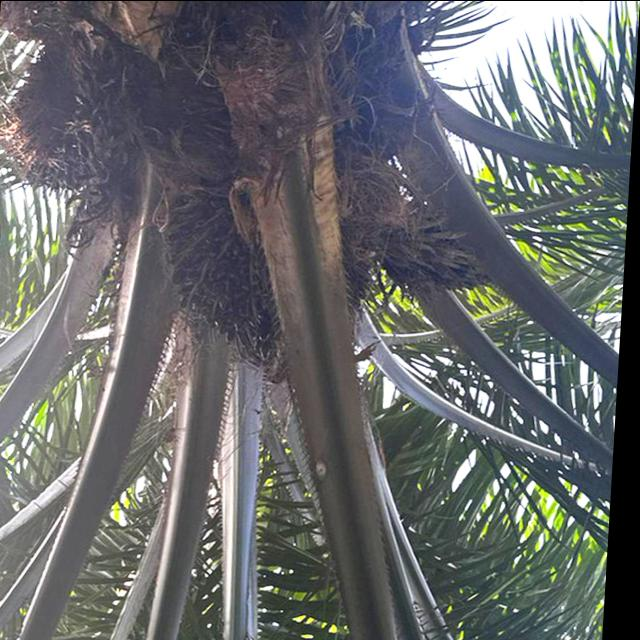ripe: (138, 184, 381, 390)
